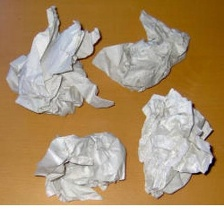tissue: (2, 1, 119, 121), (133, 83, 220, 202), (87, 3, 195, 95), (30, 127, 131, 204)
